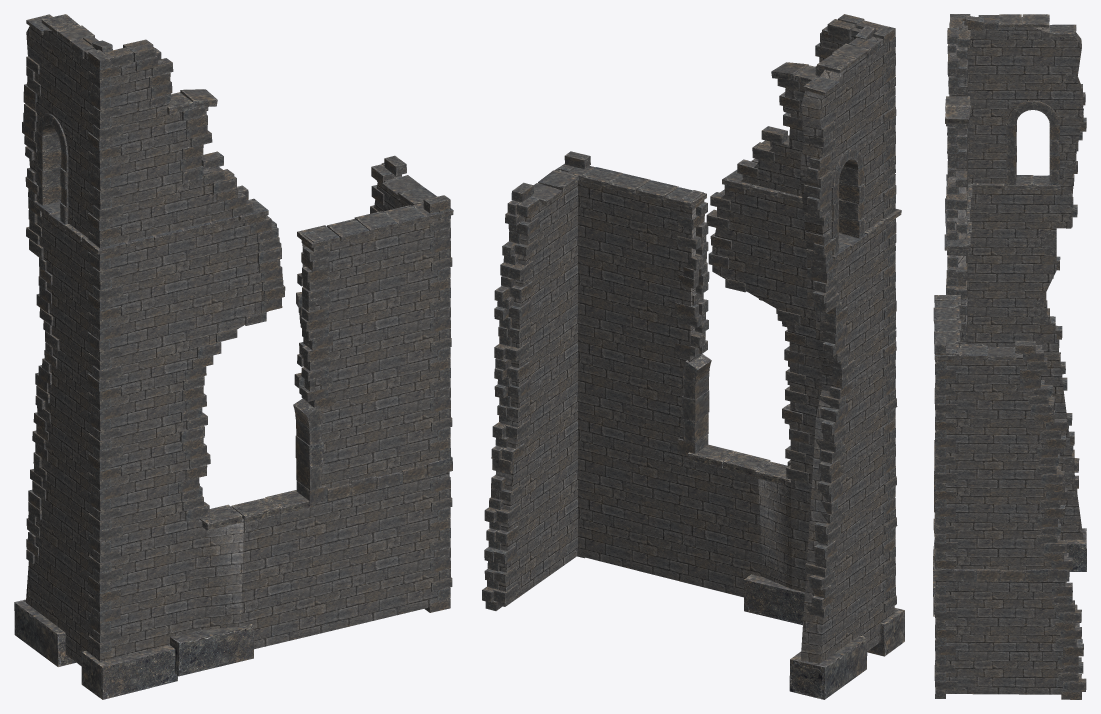
File: Tower_03.fbx
The picture shows the model from 3 angles, left to right: view 1: azimuth 30°, elevation 25°; view 2: azimuth 150°, elevation 25°; view 3: azimuth 270°, elevation 25°; orthographic projection. The views are drawn at different scales.
Visible parts, largest first — view 1: StoneWall, StoneBricks; view 2: StoneWall, StoneBricks; view 3: StoneWall, StoneBricks.
Part boxes in pixels (box(x1,y1,x2,y2)): StoneWall: box(26, 26, 449, 666); StoneBricks: box(14, 14, 453, 699); StoneWall: box(489, 27, 894, 663); StoneBricks: box(482, 14, 904, 699); StoneWall: box(935, 17, 1083, 694); StoneBricks: box(933, 14, 1086, 699).
Size of what is drawn, in the model's own units: 663 by 1145 by 289.
